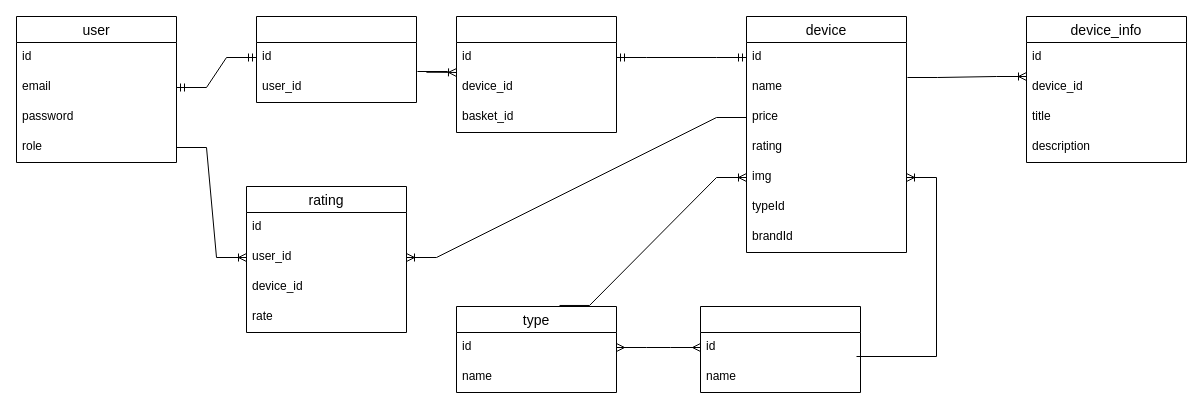
Some shapes in this 1203 by 409 pixel diagram are drawn without their labels. The box of each missing label's shape, as (x1, y1, x2, y2) in pixels:
basket: (256, 16, 416, 102)
basket_device: (456, 16, 616, 132)
brand: (700, 306, 860, 392)
